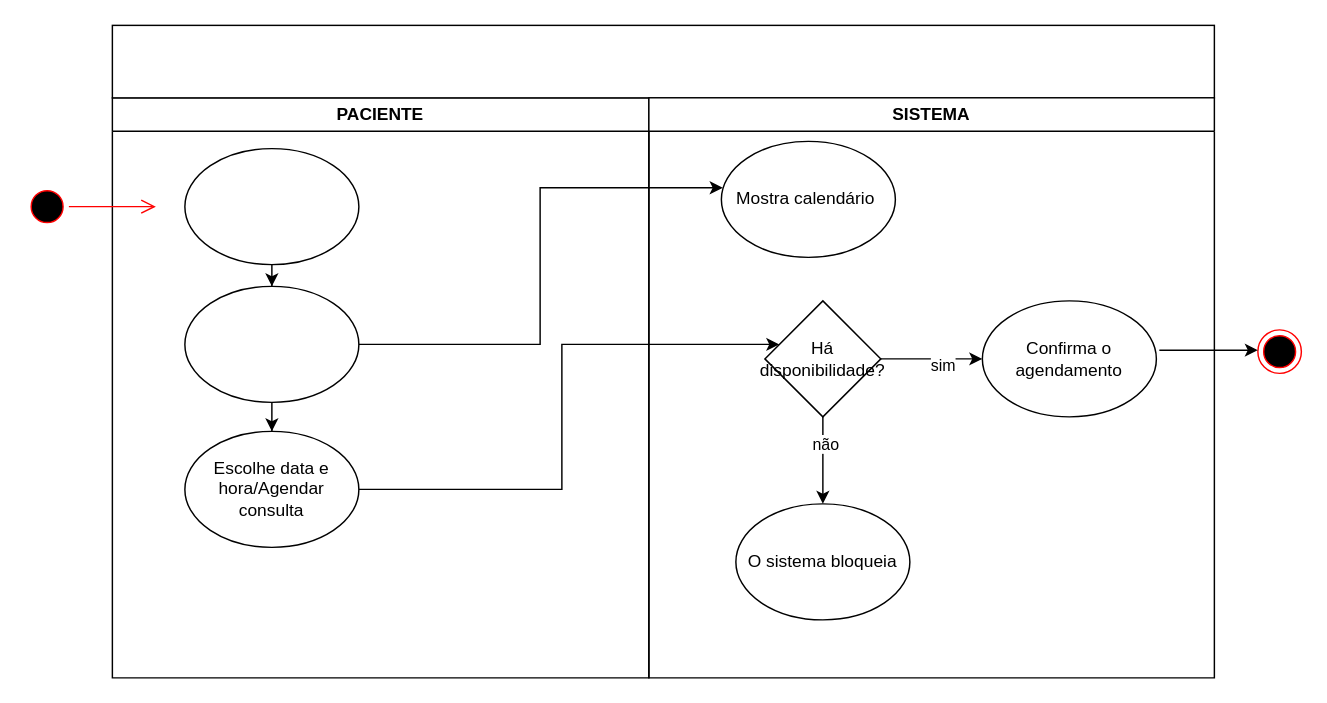
The diagram is 1327 pixels wide and 703 high, and some of its shapes have lost their labels. The centre of each missing label's shape, as x and y in pixels:
Acessa sistema: the point at 271,206
Login/cadastro: the point at 271,343
SISTEMA DE AGENDAMENTO DE CONSULTAS ODONTOLÓGICAS: the point at 662,61
